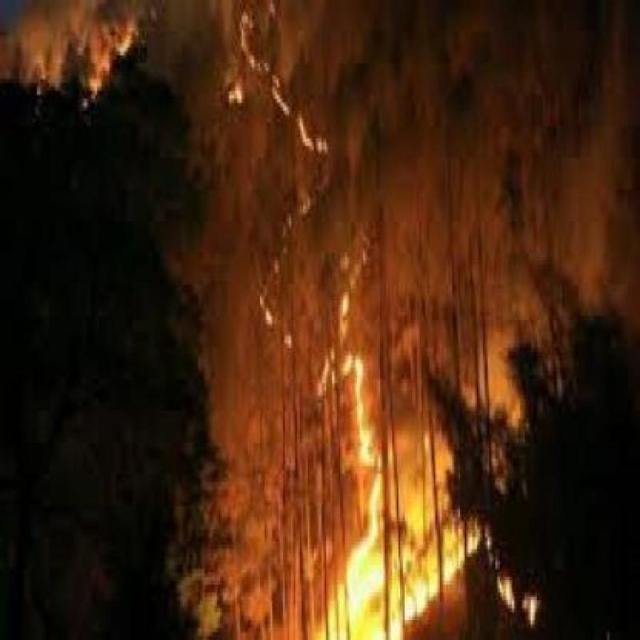Fire: (47, 1, 497, 640)
